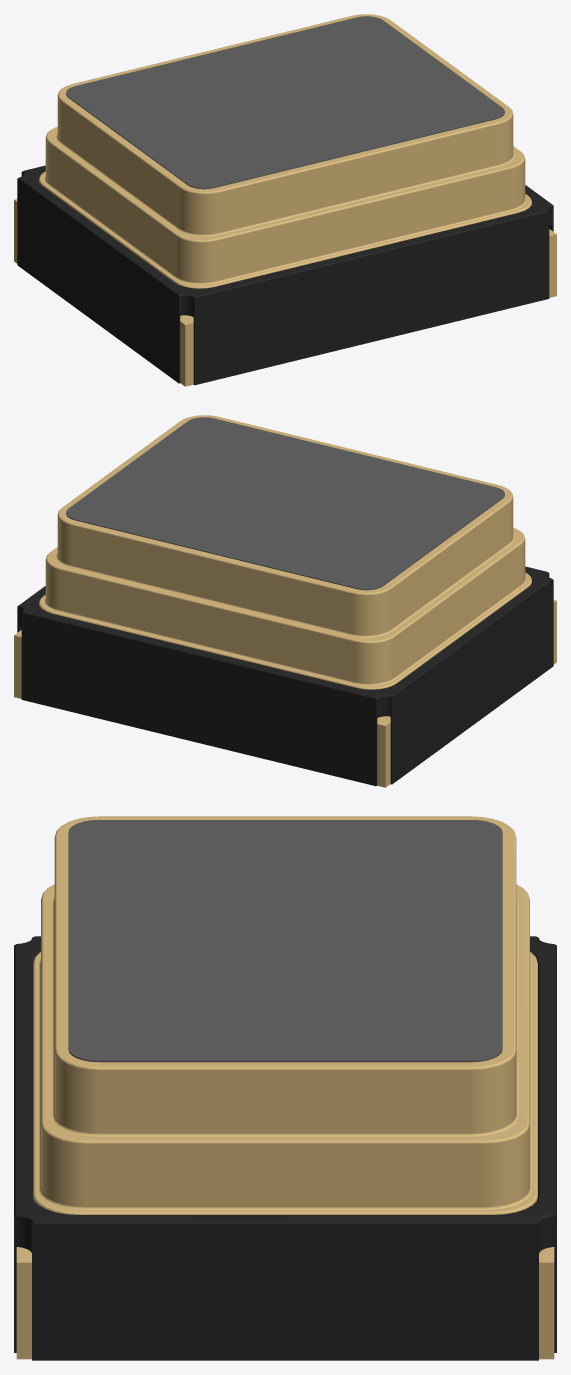
The model's file is Crystal_SMD_2016-4Pin_2.0x1.6mm.glb.
3 views of the same model, one above another, from view 1: azimuth 30°, elevation 25°; view 2: azimuth 150°, elevation 25°; view 3: azimuth 270°, elevation 25° (orthographic). The views are drawn at different scales.
Parts seen in each view (by area): view 1: =>[0:1:1:3]; view 2: =>[0:1:1:3]; view 3: =>[0:1:1:3].
Part boxes in pixels (box(x1,y1,x2,y2)): =>[0:1:1:3]: box(14, 14, 556, 386); =>[0:1:1:3]: box(14, 415, 556, 787); =>[0:1:1:3]: box(14, 816, 556, 1360).
Size of the model in its own units: 0.002 by 0.00093 by 0.0016.
